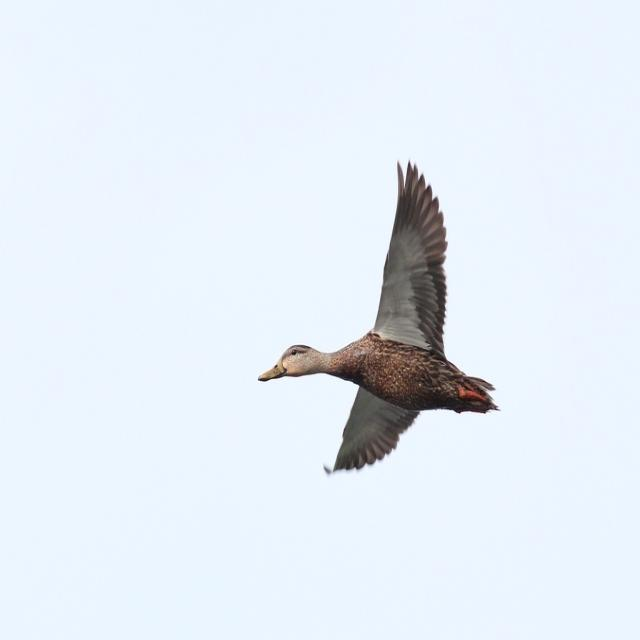bird: (258, 154, 514, 483)
